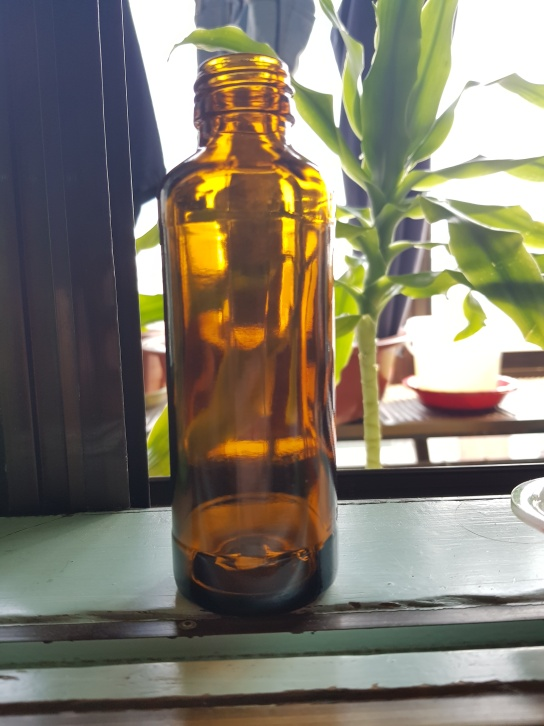Glass: (168, 51, 335, 615)
